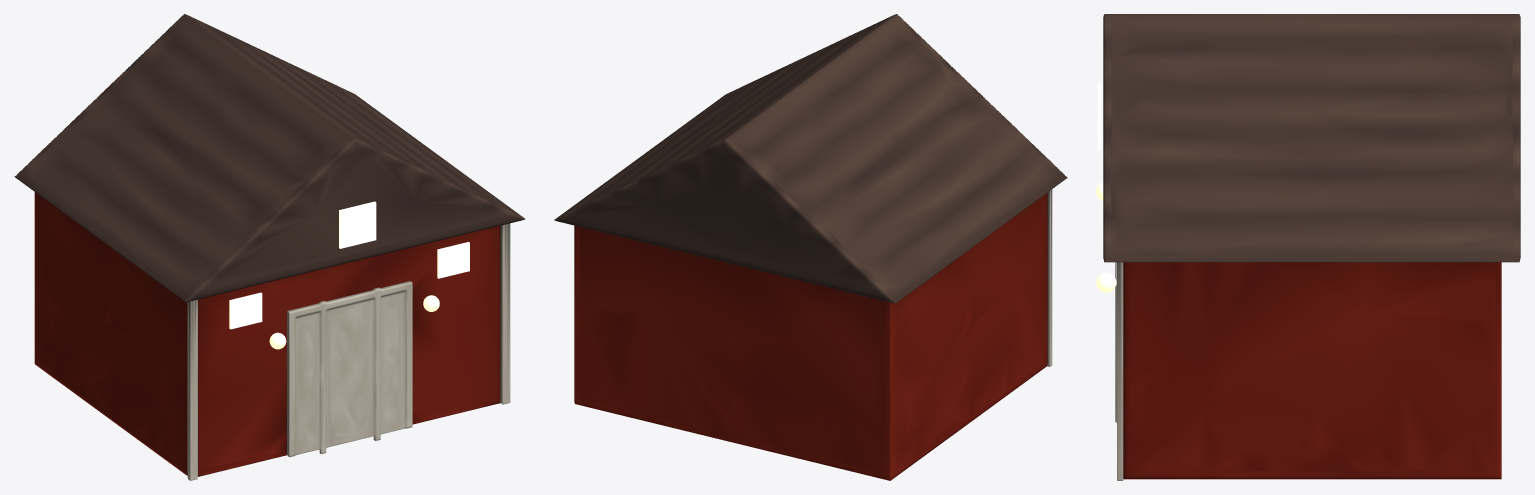
The model's file is barn.glb.
3 views of the same model, side by side, from view 1: azimuth 30°, elevation 25°; view 2: azimuth 150°, elevation 25°; view 3: azimuth 270°, elevation 25° (orthographic). The views are drawn at different scales.
Visible parts, largest first — view 1: barn_roof, barn_walls, barn_trim, Cube.002, Cube, Cube.001; view 2: barn_walls, barn_roof, barn_trim; view 3: barn_roof, barn_walls, barn_trim.
Part boxes in pixels (x1=…): barn_roof: x1=14, y1=14, x2=525, y2=301; barn_walls: x1=34, y1=192, x2=500, y2=476; barn_trim: x1=187, y1=223, x2=510, y2=480; Cube.002: x1=339, y1=201, x2=376, y2=248; Cube: x1=229, y1=292, x2=262, y2=329; Cube.001: x1=437, y1=242, x2=469, y2=278; barn_walls: x1=574, y1=193, x2=1047, y2=480; barn_roof: x1=554, y1=14, x2=1067, y2=303; barn_trim: x1=1047, y1=189, x2=1052, y2=366; barn_roof: x1=1103, y1=14, x2=1520, y2=262; barn_walls: x1=1123, y1=262, x2=1501, y2=479; barn_trim: x1=1115, y1=262, x2=1123, y2=480.
Bounding box in the file's own units: 7.53 × 6.59 × 6.71.
